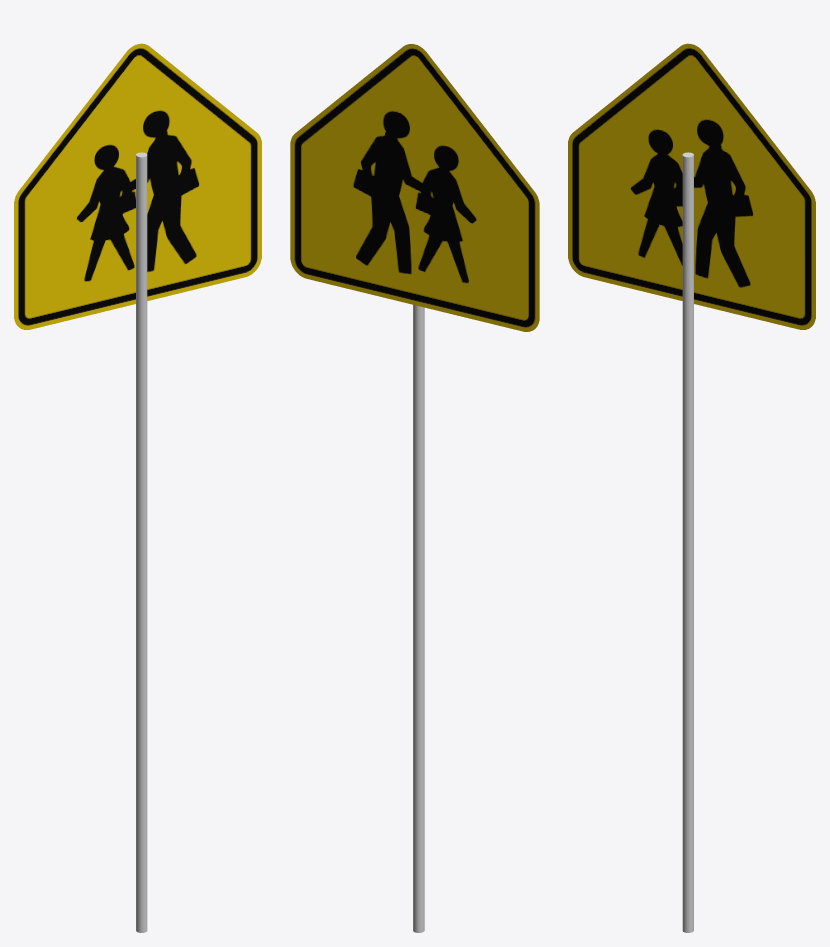
File: budak walking.fbx
The picture shows the model from 3 angles, left to right: view 1: azimuth 30°, elevation 25°; view 2: azimuth 150°, elevation 25°; view 3: azimuth 330°, elevation 25°; orthographic projection.
Visible parts, largest first — view 1: Plane, Cylinder; view 2: Plane, Cylinder; view 3: Plane, Cylinder.
Boxes of the visible parts, x1,y1,x2,y2 form: Plane: [14, 43, 261, 329]; Cylinder: [136, 152, 147, 932]; Plane: [290, 44, 539, 331]; Cylinder: [413, 305, 424, 932]; Plane: [568, 43, 815, 329]; Cylinder: [682, 152, 693, 932].
Size of the model in its own units: 200 by 682 by 9.27.
